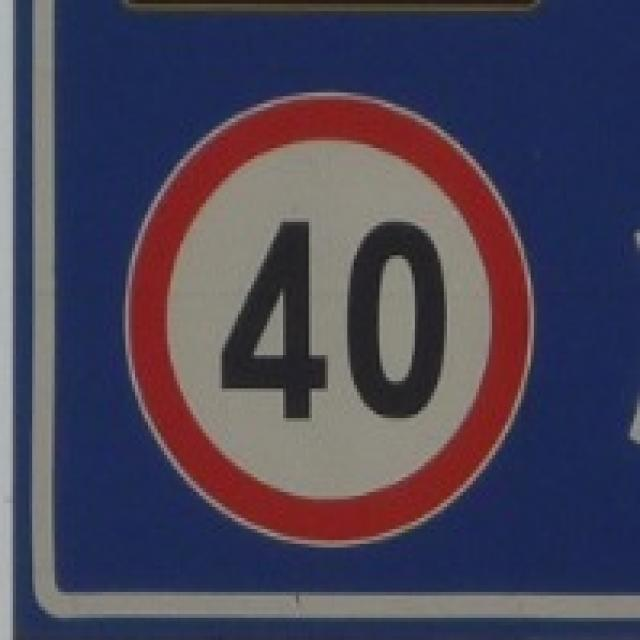Speed Limit -40-: (219, 218, 452, 427)
